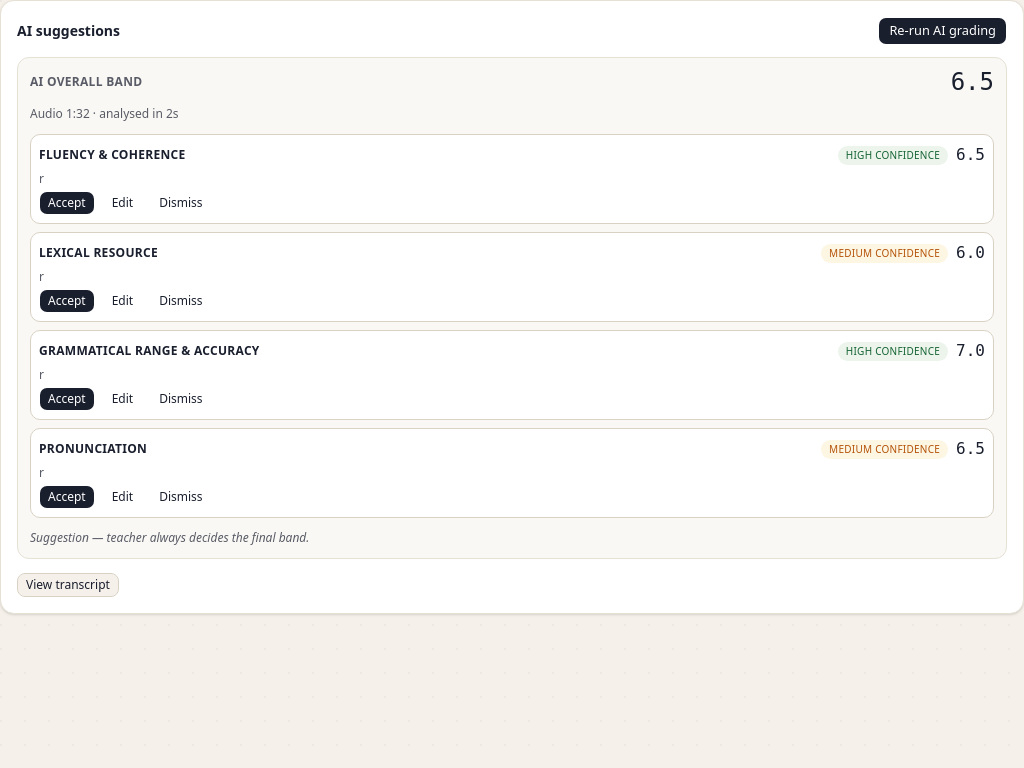
Test case: AiSpeakingGradePanel — band strip + transcript (AC5/AC10/AC11) › ready + available transcript → band strip + a "View transcript" toggle revealing the body
Click the button with test id "ai-speaking-transcript-toggle". click: (68, 585)
box: [17, 573, 119, 597]
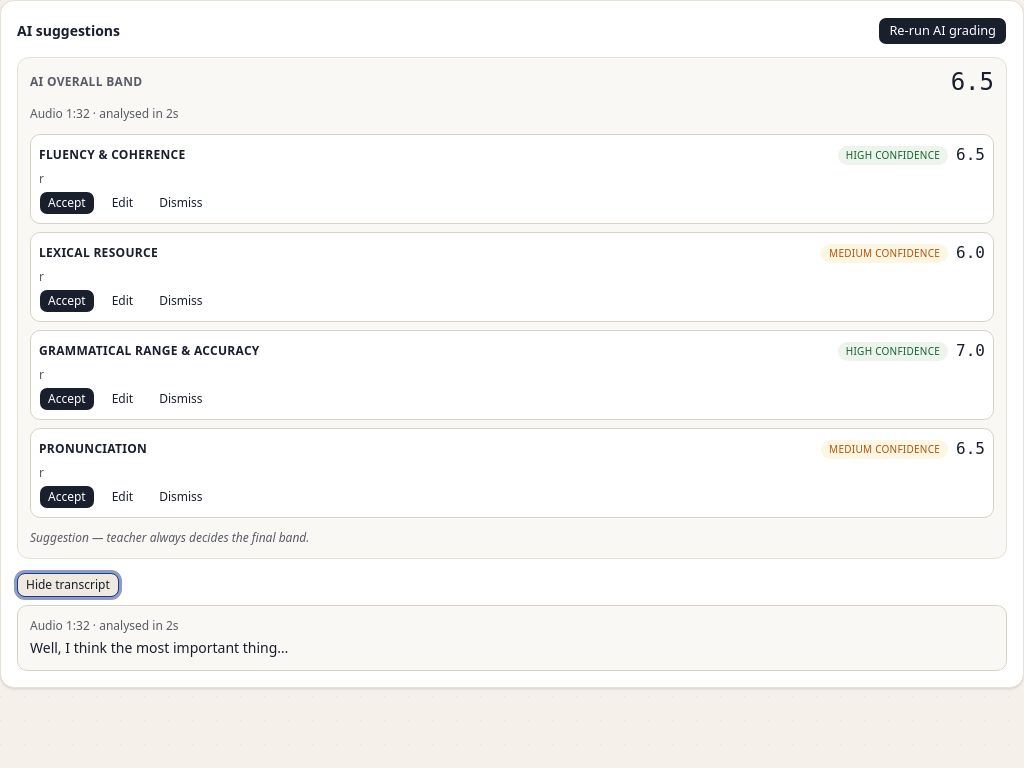
Now the text with test id "ai-speaking-transcript-body" reads "Well, I think the most important thing…", box [30, 638, 288, 657]
